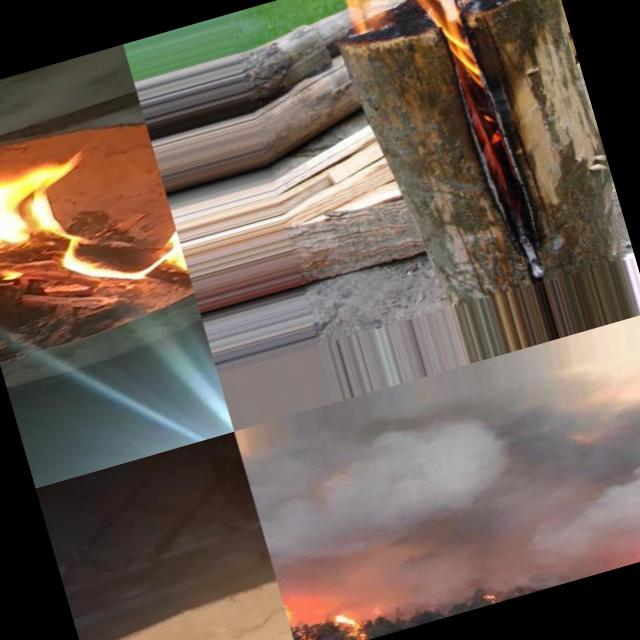fire: (0, 122, 188, 326), (322, 0, 547, 112), (322, 601, 374, 640), (280, 591, 304, 632), (451, 594, 486, 614)
smoke: (248, 311, 640, 618)
